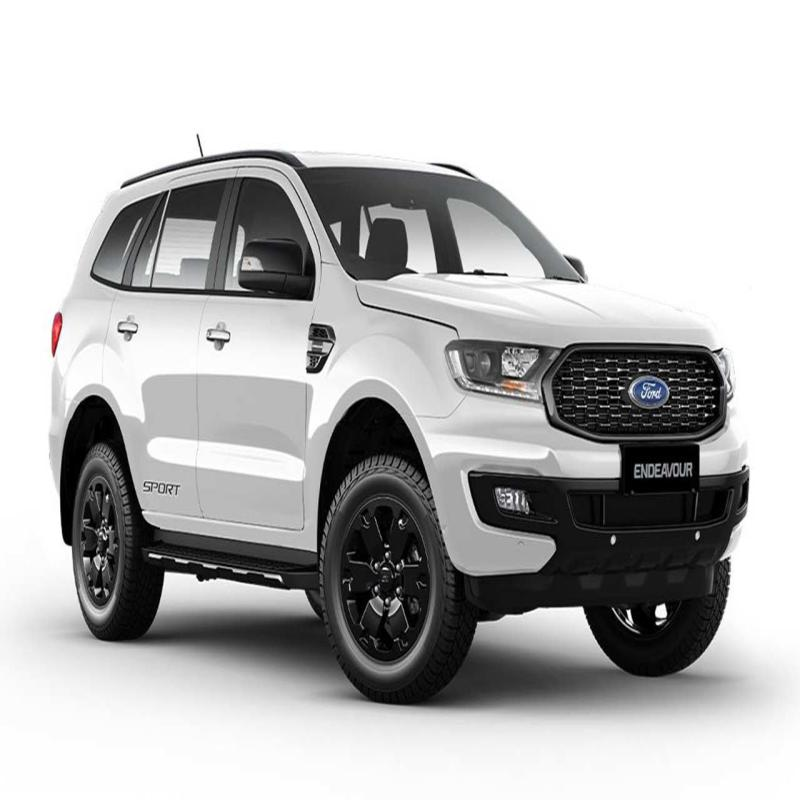car: (27, 110, 800, 680)
